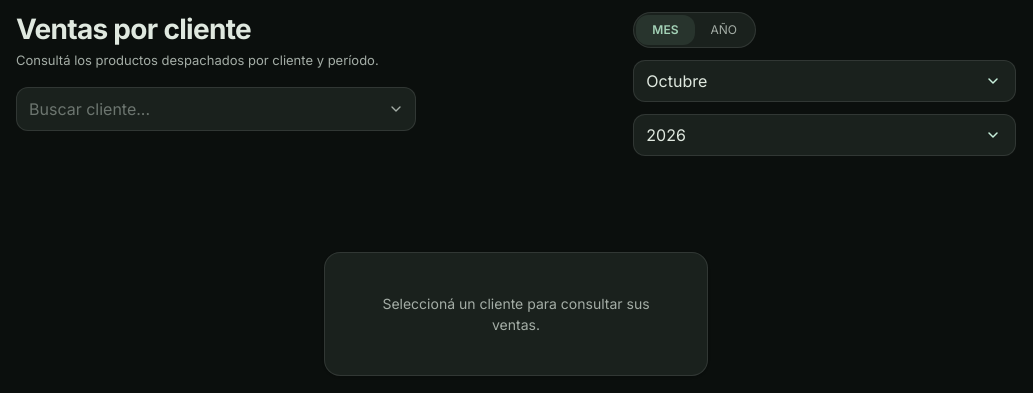
Test case: VentasPage › shows neutral no-sales message
This screenshot has width=1033, height=393.
Click the dropdown with placeholder "Buscar cliente..." at (216, 108), box left=16, top=86, right=416, bottom=130
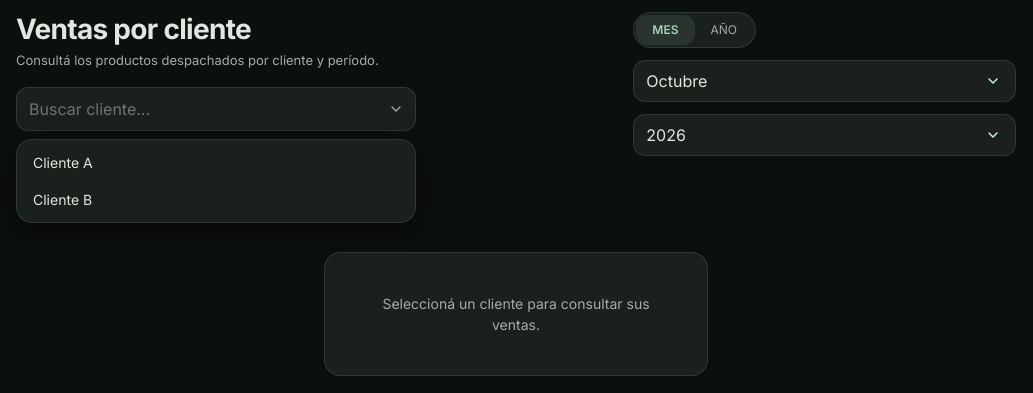
Click the option "Cliente A" at (63, 162), box left=21, top=144, right=411, bottom=180
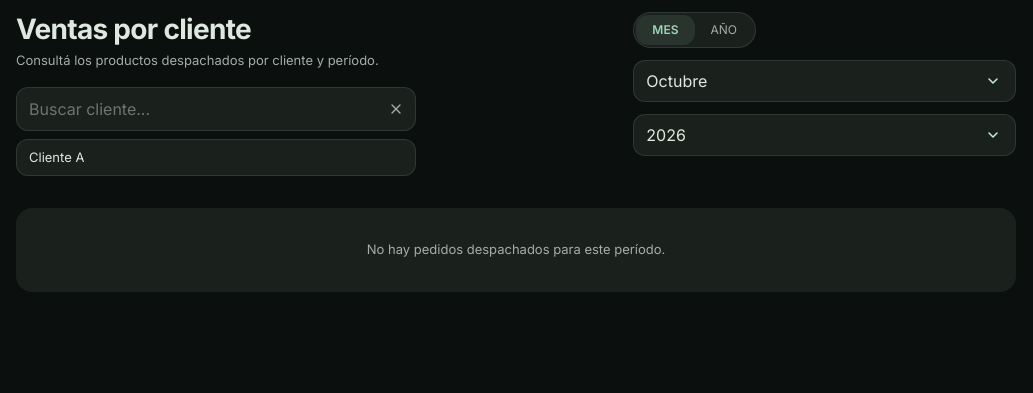
Expected: the text "No hay pedidos despachados para este período." is shown, left=367, top=241, right=665, bottom=257
